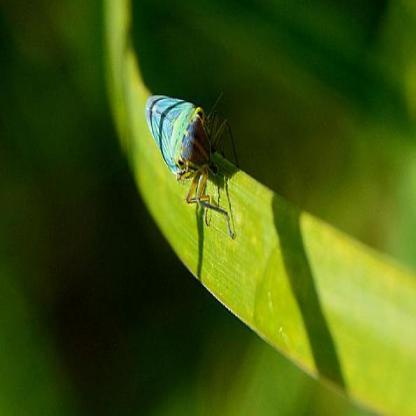Green-Leafhopper: (144, 84, 240, 236)
